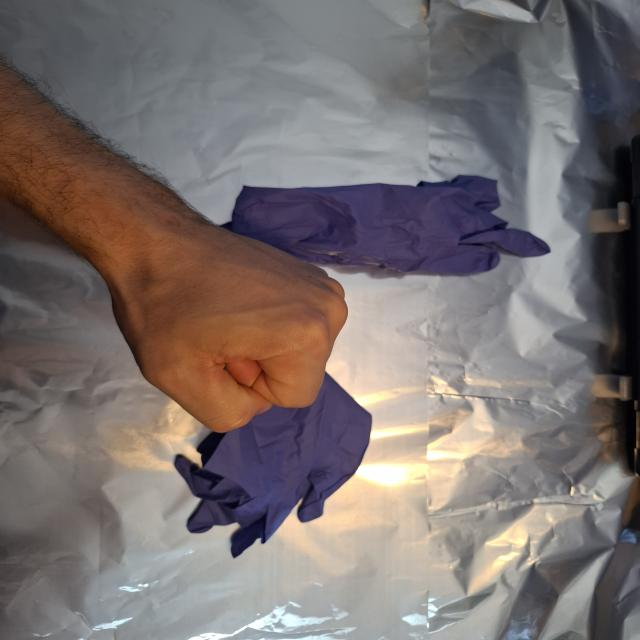glove_off: (107, 228, 351, 435)
